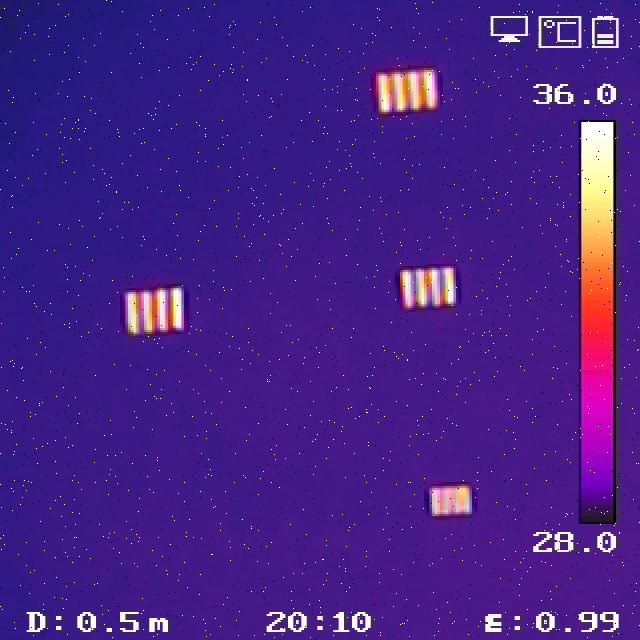Distinguishable 4-bar target: (376, 68, 443, 112), (125, 288, 184, 333), (400, 265, 457, 307), (429, 486, 474, 514)
